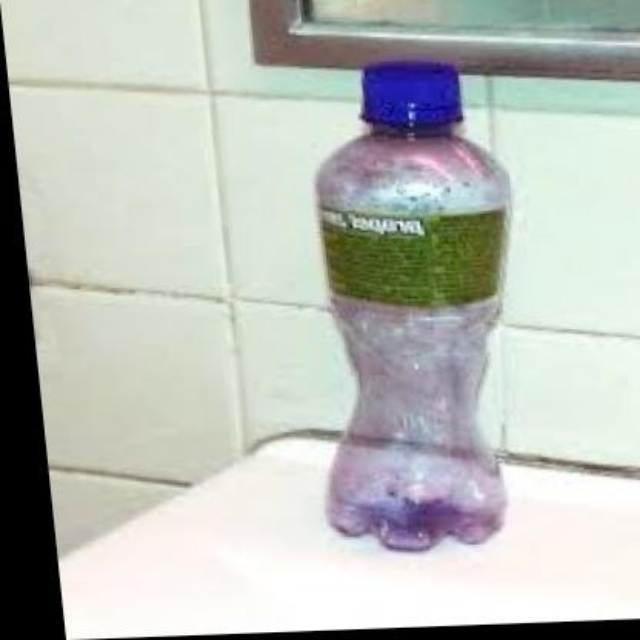trash: (317, 62, 508, 549)
